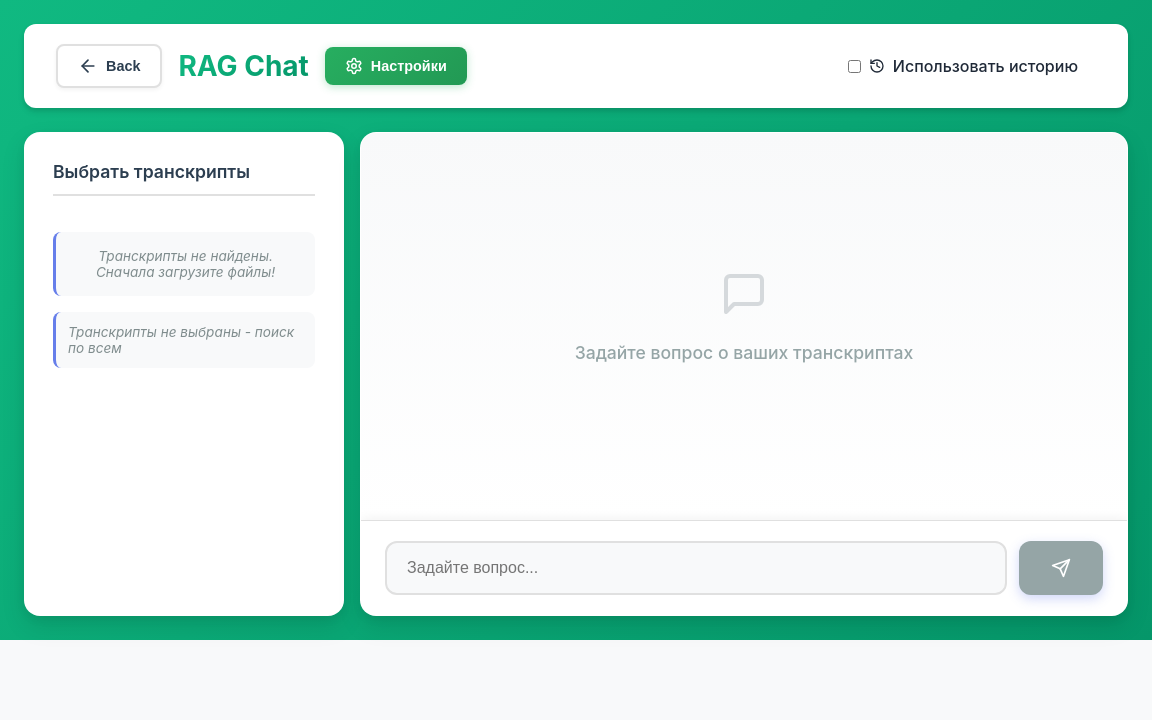
RAGChatPage › Session Management › should show session selector when enabled
The image size is (1152, 720).
Click the checkbox labelled "Использовать историю" at (854,66), box x1=848 y1=60 x2=861 y2=72
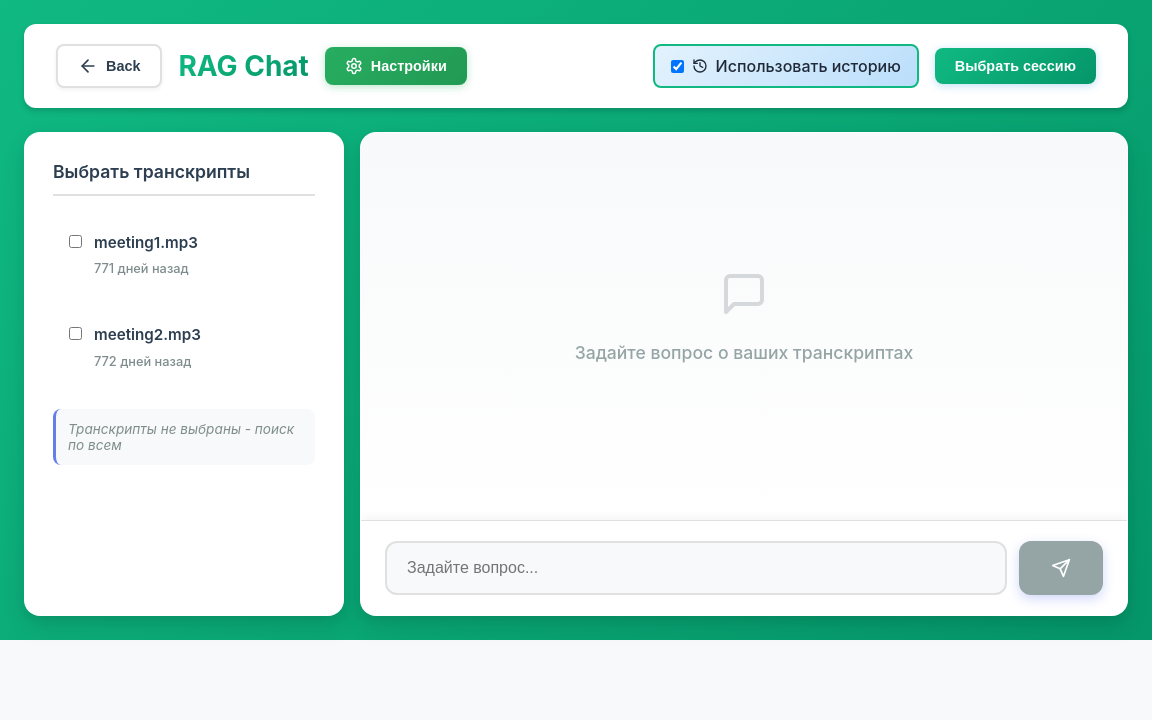
Expected: the button "Выбрать сессию" is shown, x1=935 y1=48 x2=1096 y2=84
